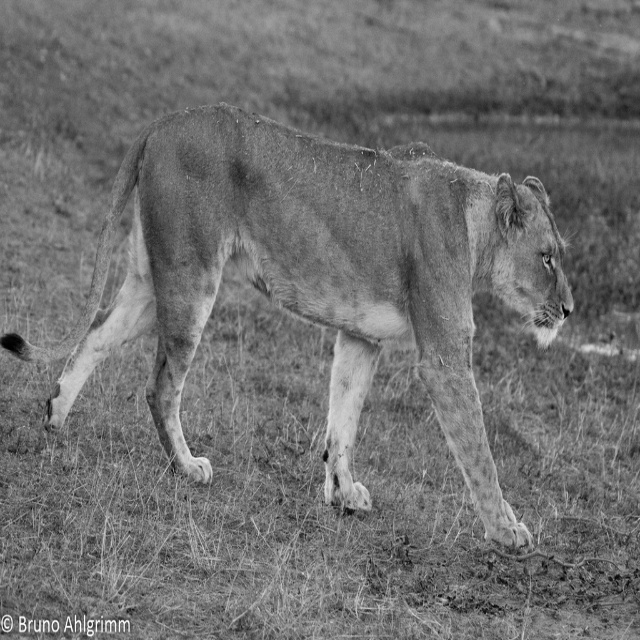Lion: (0, 100, 580, 551)
